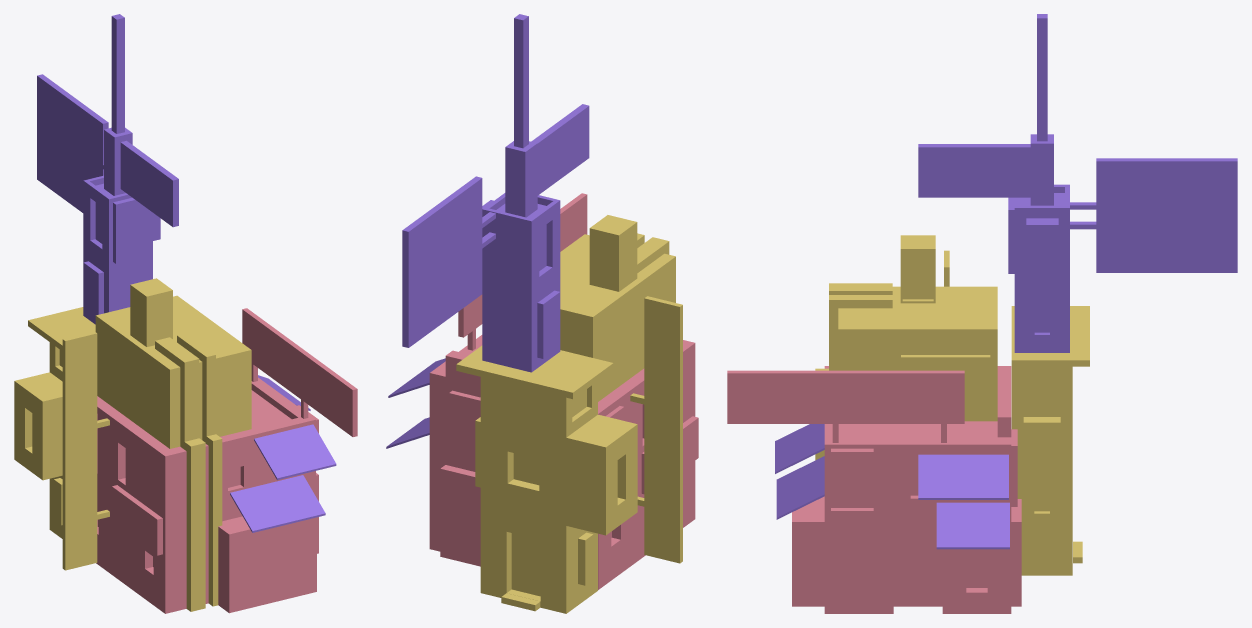
The model's file is 1.Combine_building.fbx.
3 views of the same model, side by side, from view 1: azimuth 30°, elevation 25°; view 2: azimuth 150°, elevation 25°; view 3: azimuth 270°, elevation 25° (orthographic). The views are drawn at different scales.
Visible parts, largest first — view 1: L2_Combine_Building, L1_Combine_Building, L3_Combine_Building; view 2: L2_Combine_Building, L3_Combine_Building, L1_Combine_Building; view 3: L1_Combine_Building, L3_Combine_Building, L2_Combine_Building.
Part boxes in pixels (x1,y1,x2,y2): L2_Combine_Building: (14,278,251,611); L1_Combine_Building: (96,308,357,613); L3_Combine_Building: (37,14,336,532); L2_Combine_Building: (456,215,682,613); L3_Combine_Building: (386,14,589,448); L1_Combine_Building: (429,193,698,589); L1_Combine_Building: (727,366,1021,613); L3_Combine_Building: (775,14,1237,549); L2_Combine_Building: (815,235,1089,575).
Bounding box in the file's own units: 312 × 647 × 547.
